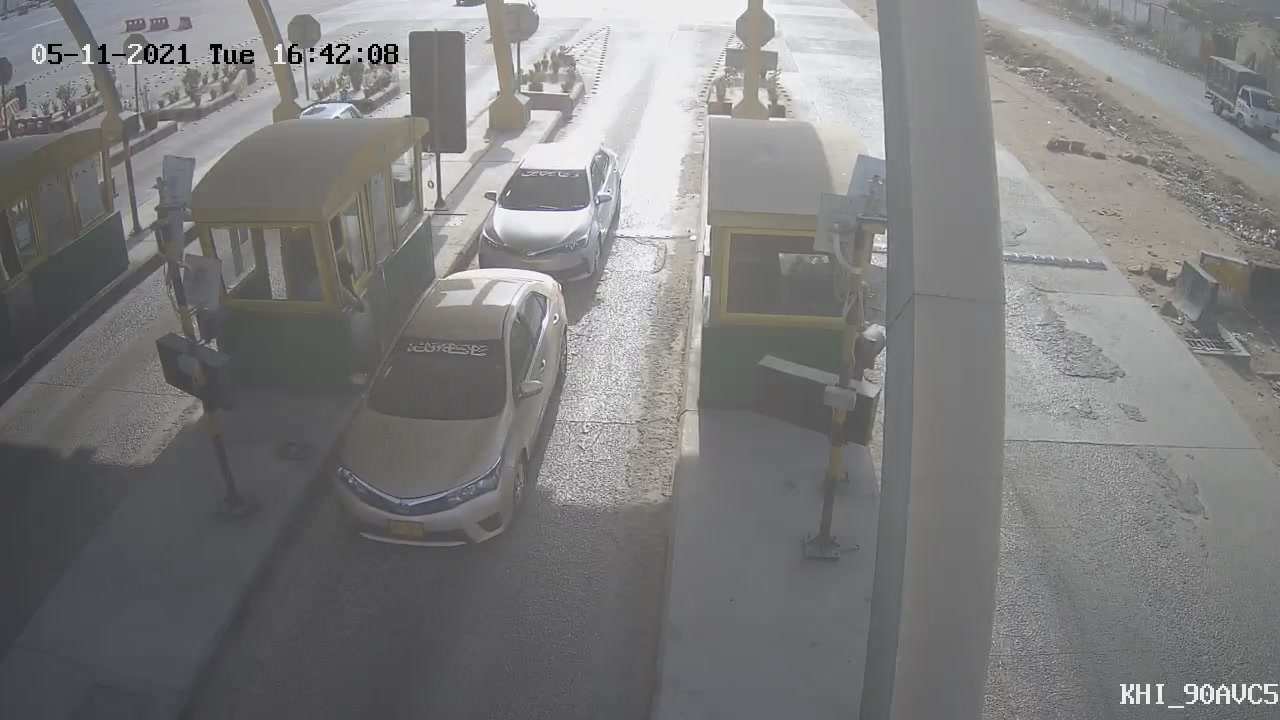F1: (304, 251, 594, 572), (461, 127, 644, 307)
